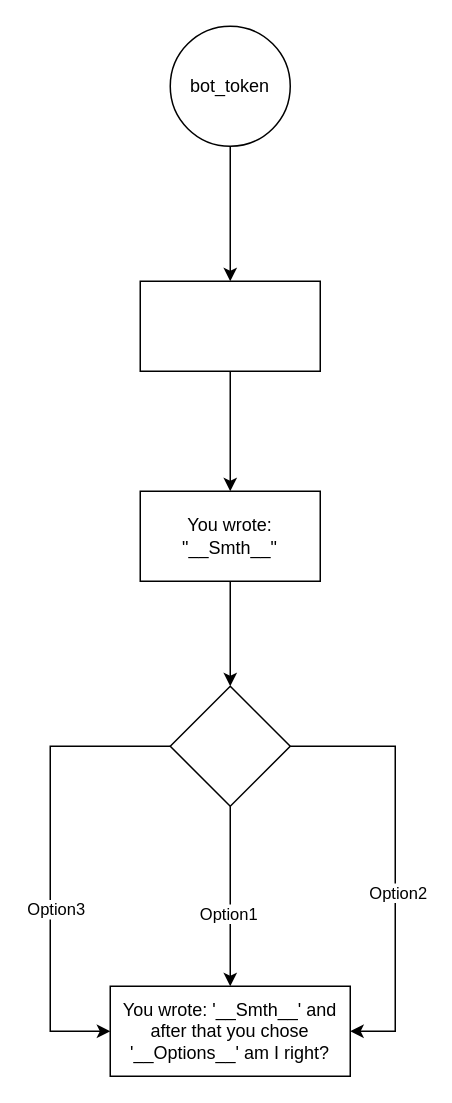
This 452x1103 diagram has some shape labels left out. The box of each missing label's shape, as (x1, y1, x2, y2) in pixels:
[Options] Choose something: (169, 685, 290, 806)
[Smth] Write something: (139, 280, 320, 371)
